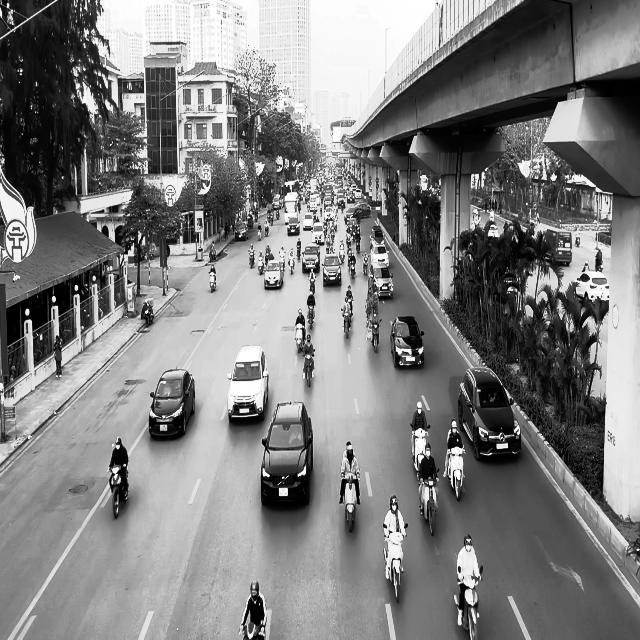bus: (543, 228, 572, 266)
car: (457, 366, 521, 461), (260, 400, 313, 506), (148, 368, 196, 438), (226, 344, 268, 422), (390, 315, 425, 369), (574, 271, 609, 305), (264, 260, 284, 289), (234, 221, 248, 241)
motorbike: (382, 522, 408, 603), (455, 566, 483, 639), (417, 468, 439, 535), (107, 464, 129, 518), (410, 423, 430, 478), (446, 446, 466, 500), (342, 475, 358, 532), (302, 349, 316, 388), (141, 298, 154, 326), (341, 308, 352, 339), (370, 319, 380, 352), (294, 323, 305, 352), (306, 300, 316, 328), (209, 268, 216, 292), (594, 251, 602, 272)
